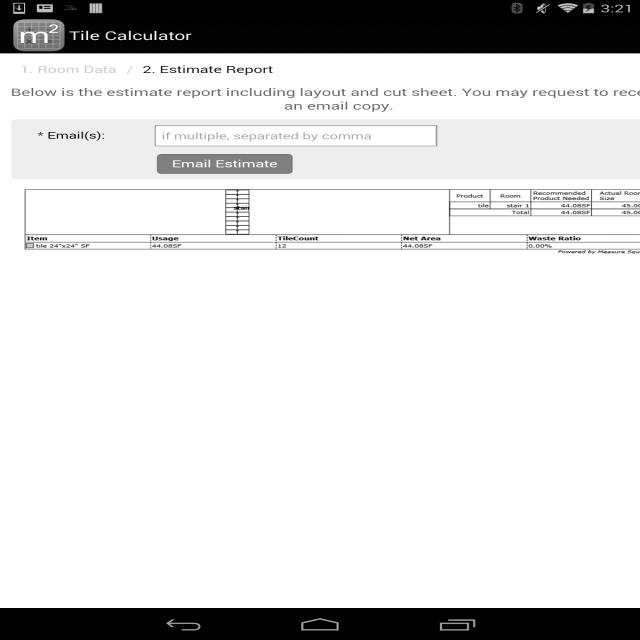Button: (157, 154, 292, 174)
EditText: (154, 125, 436, 146)
ImageView: (14, 19, 64, 52)
TextView: (69, 27, 192, 43)
